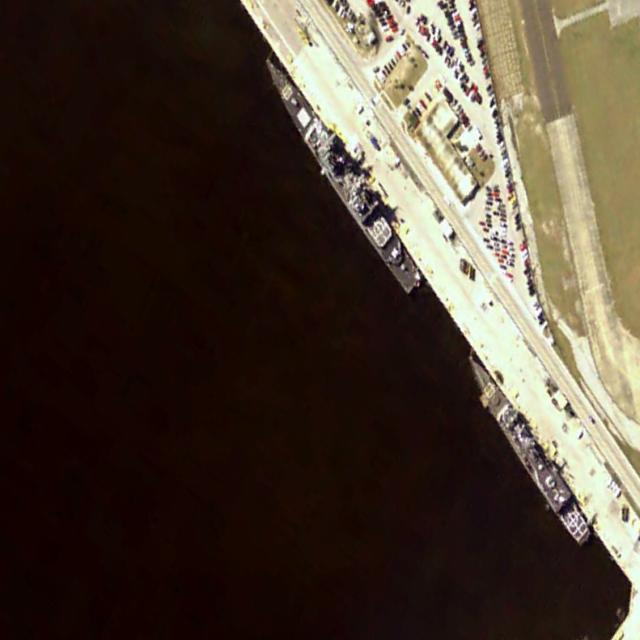Cruiser: (257, 47, 425, 298)
Frigate: (459, 346, 596, 551)
